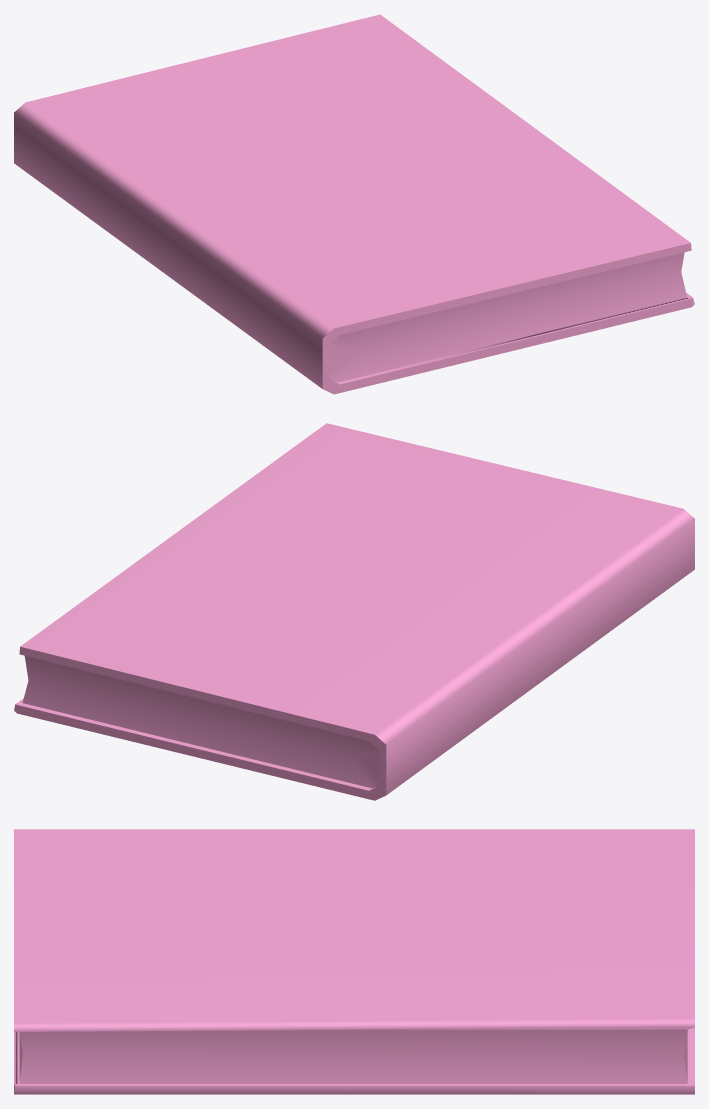
Rendered from Book_closed_small.fbx.
The picture shows the model from 3 angles, top to bottom: view 1: azimuth 30°, elevation 25°; view 2: azimuth 150°, elevation 25°; view 3: azimuth 270°, elevation 25°; orthographic projection. The views are drawn at different scales.
Parts seen in each view (by area): view 1: Book_closed_Small; view 2: Book_closed_Small; view 3: Book_closed_Small.
Boxes of the visible parts, <box> form: Book_closed_Small: <box>14,14,694,394</box>; Book_closed_Small: <box>14,423,694,800</box>; Book_closed_Small: <box>14,829,694,1094</box>.
Bounding box in the file's own units: 25.78 × 4.47 × 37.04.
